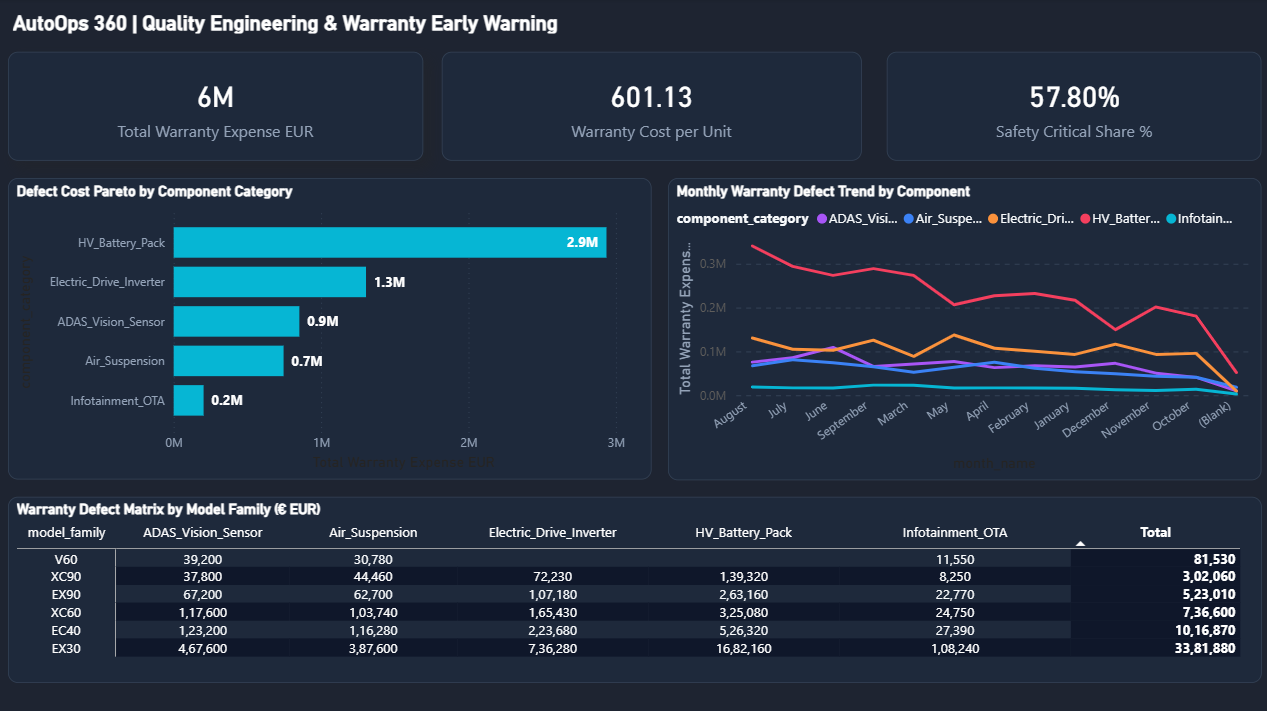

The page's visual inventory and layout, read from the dashboard file:
{"tool":"powerbi","page":{"name":"Page 4","canvas":[1280,720],"ordinal":3},"visuals":[{"type":"card","fields":{"Values":["dim_dates.Total Warranty Expense EUR"]},"box":[10.1,54.1,417.3,109.4],"z":0},{"type":"card","fields":{"Values":["dim_dates.Warranty Cost per Unit"]},"box":[446.2,54.1,422.3,109.4],"z":1000},{"type":"card","fields":{"Values":["dim_dates.Safety Critical Share %"]},"box":[893.7,54.1,377.1,109.4],"z":2000},{"type":"clusteredBarChart","title":"Defect Cost Pareto by Component Category","fields":{"Category":["fct_warranty_claims.component_category"],"Y":["dim_dates.Total Warranty Expense EUR"]},"box":[10.1,181,647.3,302.9],"z":3000},{"type":"lineChart","title":"Monthly Warranty Defect Trend by Component","fields":{"Y":["dim_dates.Total Warranty Expense EUR"],"Category":["dim_dates.month_name"],"Series":["fct_warranty_claims.component_category"]},"box":[673.7,181,597.1,304.2],"z":4000},{"type":"pivotTable","title":"Warranty Defect Matrix by Model Family (€ EUR)","fields":{"Rows":["dim_vehicles.model_family"],"Columns":["fct_warranty_claims.component_category"],"Values":["dim_dates.Total Warranty Expense EUR"]},"box":[10.1,501.5,1260.8,187.3],"z":5000},{"type":"textbox","title":"AutoOps 360 | Quality Engineering & Warranty Early Warning","box":[10.1,12.6,631,28.9],"z":6000}]}

Visuals, with their boxes in screenshot pixels (x1, y1, x2, y2), scaled from the page's 1280x720 canvas onto the 1267x711 screenshot:
card - dim_dates.Total Warranty Expense EUR: box=[10, 53, 423, 161]
card - dim_dates.Warranty Cost per Unit: box=[442, 53, 860, 161]
card - dim_dates.Safety Critical Share %: box=[885, 53, 1258, 161]
"Defect Cost Pareto by Component Category" clusteredBarChart: box=[10, 179, 651, 478]
"Monthly Warranty Defect Trend by Component" lineChart: box=[667, 179, 1258, 479]
"Warranty Defect Matrix by Model Family (€ EUR)" pivotTable: box=[10, 495, 1258, 680]
"AutoOps 360 | Quality Engineering & Warranty Early Warning" textbox: box=[10, 12, 635, 41]
